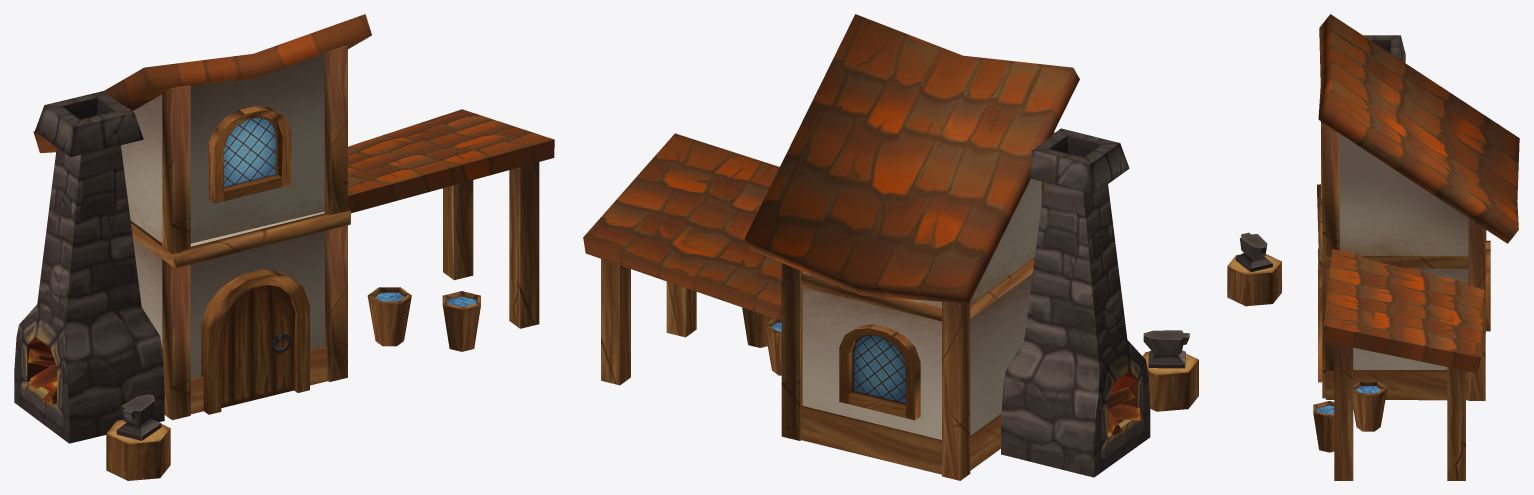
The model's file is building_4_5.FBX.
3 views of the same model, side by side, from view 1: azimuth 30°, elevation 25°; view 2: azimuth 150°, elevation 25°; view 3: azimuth 270°, elevation 25° (orthographic). The views are drawn at different scales.
Parts seen in each view (by area): view 1: building_4_5; view 2: building_4_5; view 3: building_4_5.
Boxes of the visible parts, left/top/right/bottom form: building_4_5: left=14, top=14, right=554, bottom=480; building_4_5: left=583, top=14, right=1198, bottom=480; building_4_5: left=1227, top=14, right=1519, bottom=480.
Bounding box in the file's own units: 343 × 235 × 206.
